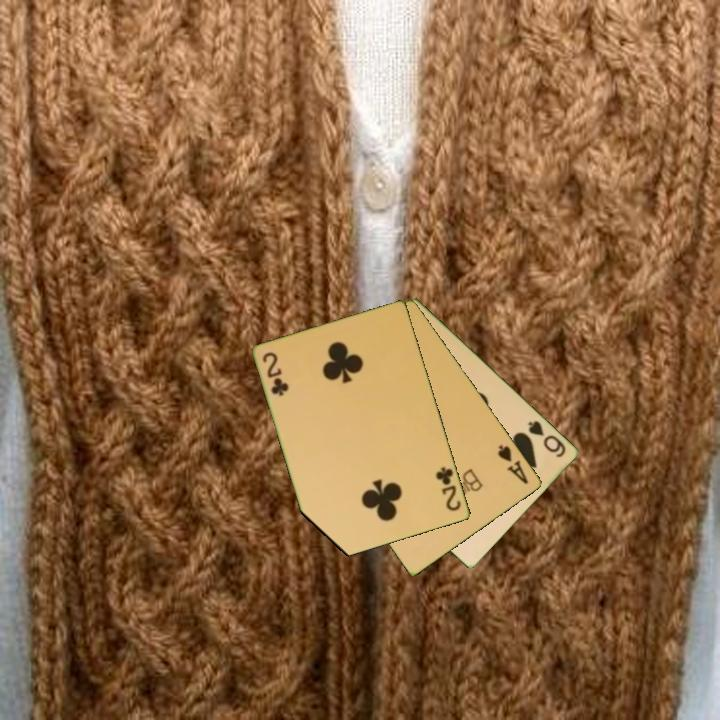2c: (259, 349, 291, 399), (433, 464, 464, 514)
6s: (525, 417, 569, 461)
As: (494, 441, 531, 487)
